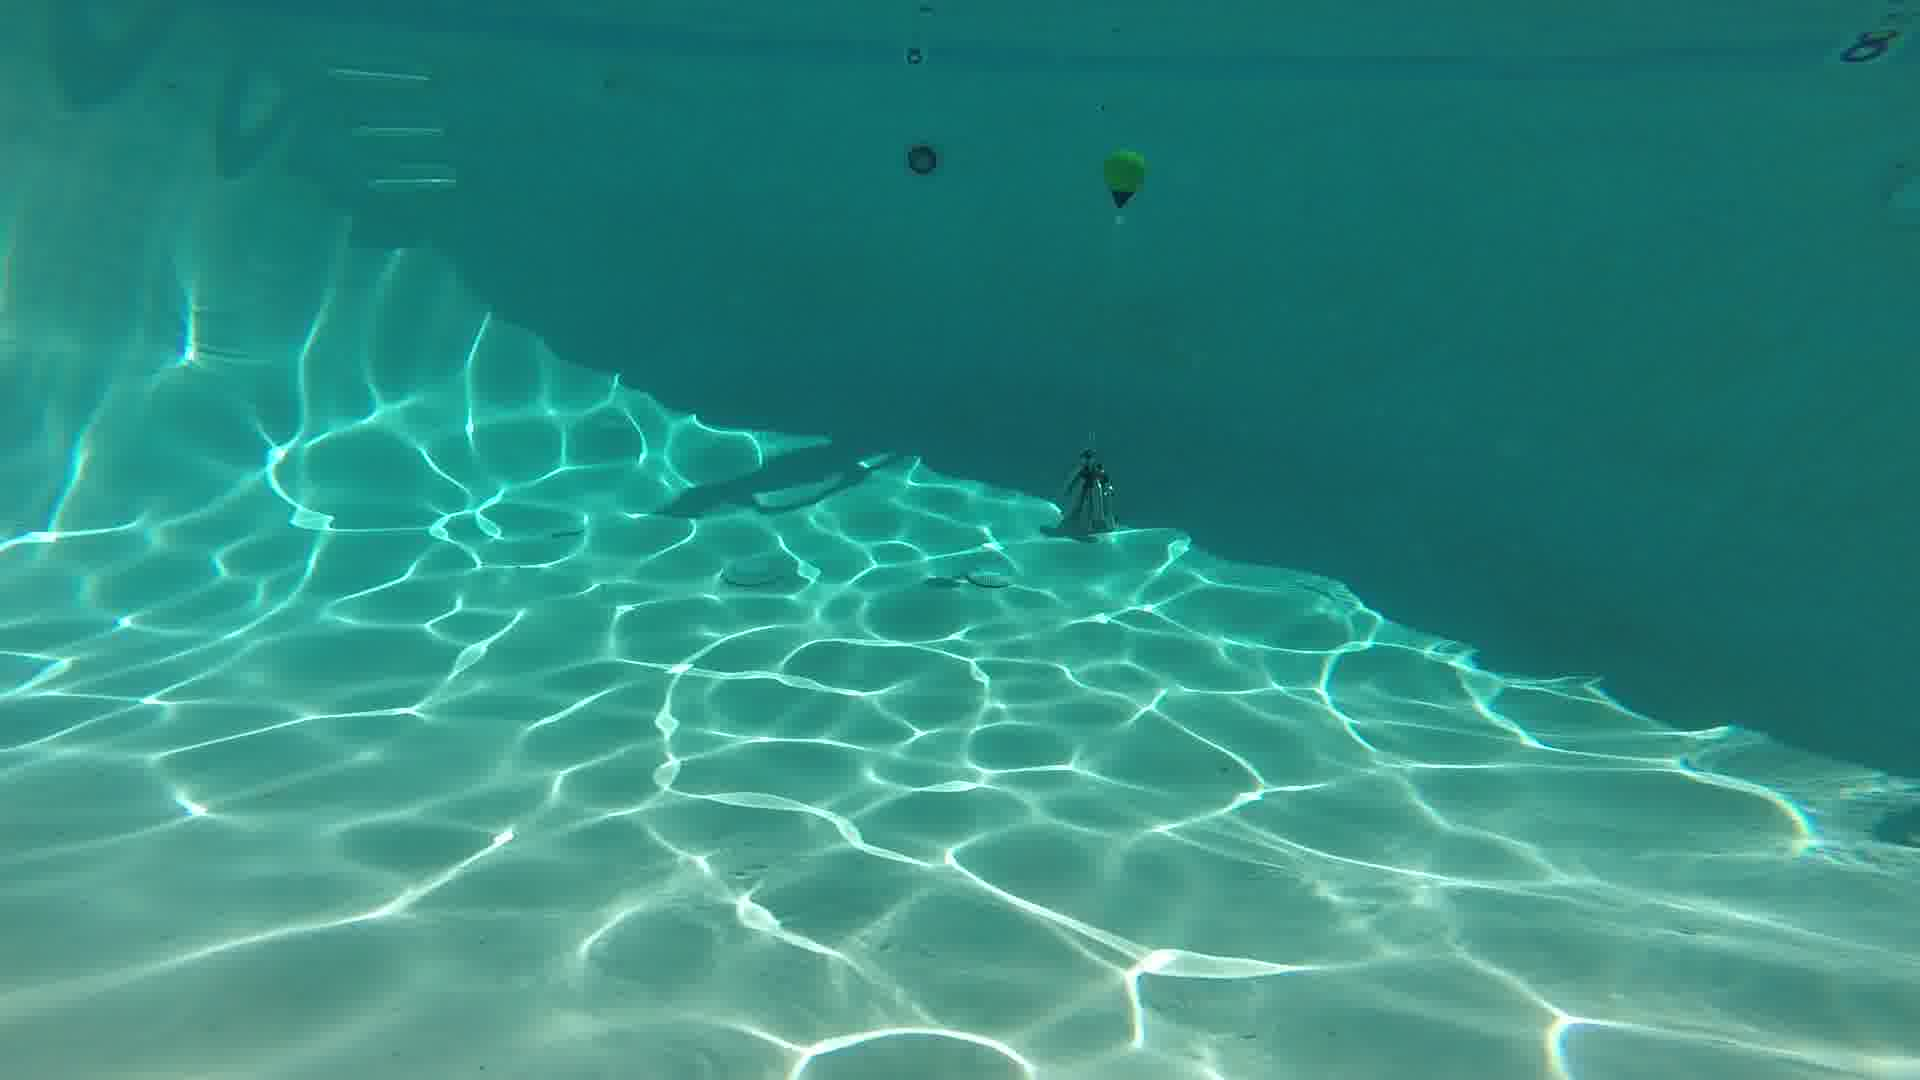yellow_buoy: (1104, 152, 1143, 210)
